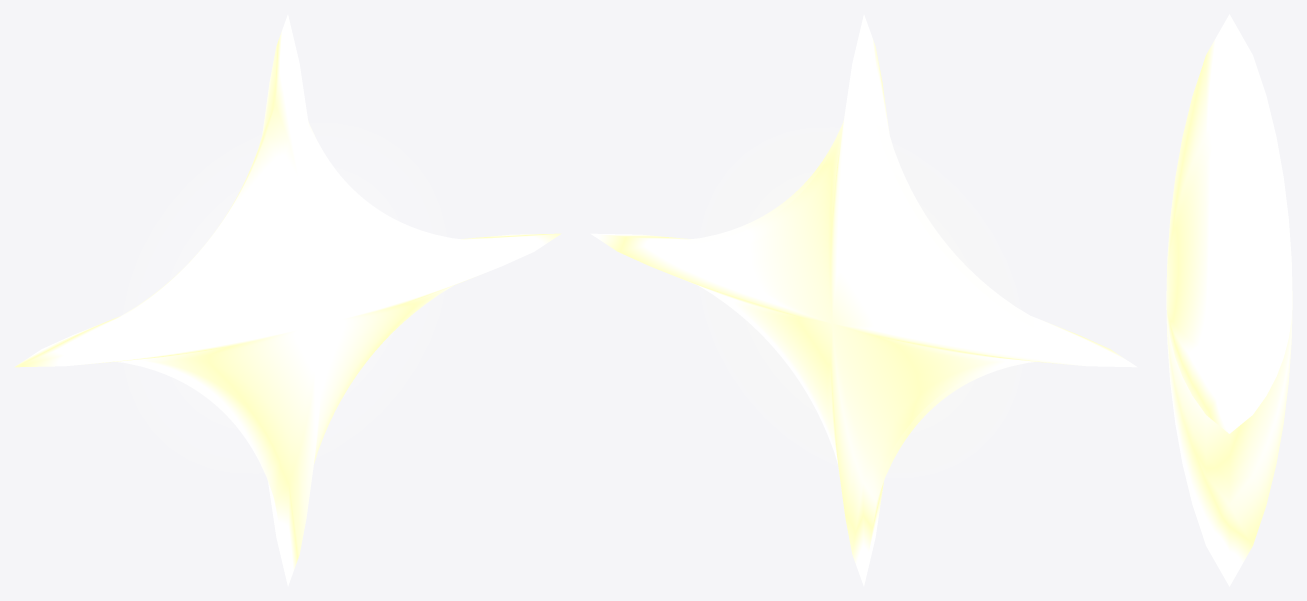
Rendered from constellation-sparkle.glb.
The picture shows the model from 3 angles, left to right: view 1: azimuth 30°, elevation 25°; view 2: azimuth 150°, elevation 25°; view 3: azimuth 270°, elevation 25°; orthographic projection.
Visible parts, largest first — view 1: ConstellationSparkle; view 2: ConstellationSparkle; view 3: ConstellationSparkle.
Boxes of the visible parts, left/top/right/bottom form: ConstellationSparkle: left=14, top=15, right=561, bottom=586; ConstellationSparkle: left=590, top=15, right=1137, bottom=586; ConstellationSparkle: left=1166, top=14, right=1292, bottom=586.
Size of the model in its own units: 0.4 by 0.4 by 0.08.
